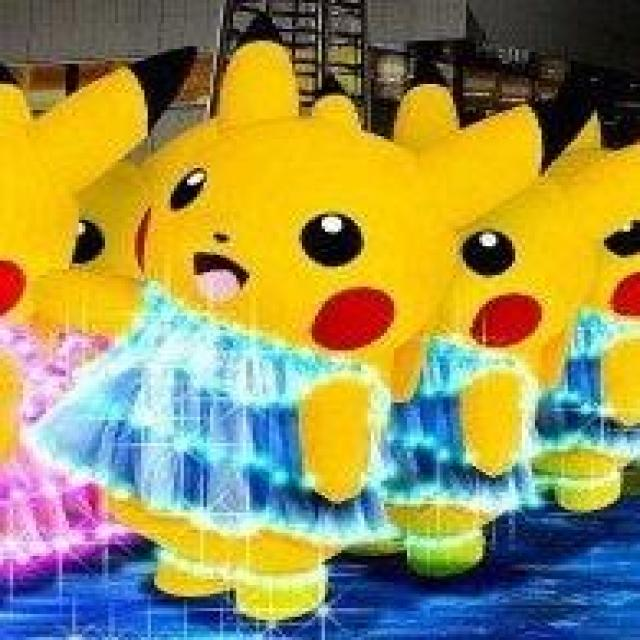pikachu: (136, 12, 604, 362)
